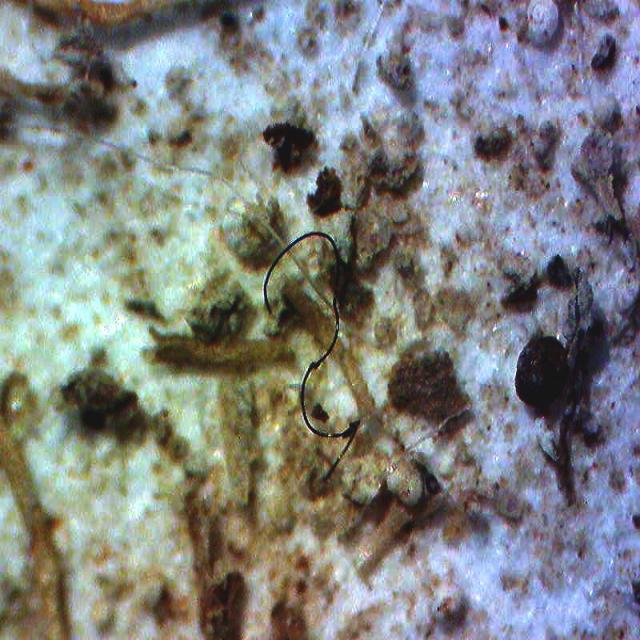microplastic: (263, 232, 360, 479)
